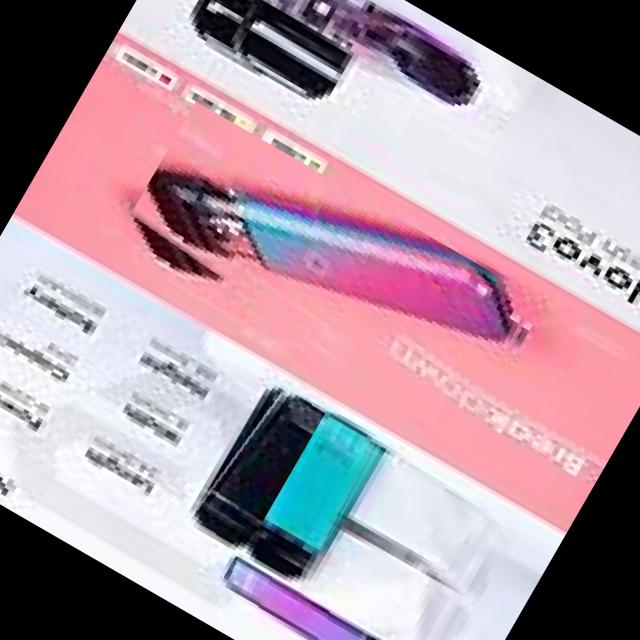Hazard: (113, 100, 550, 447), (244, 408, 386, 587), (185, 376, 326, 554), (214, 555, 421, 640)
